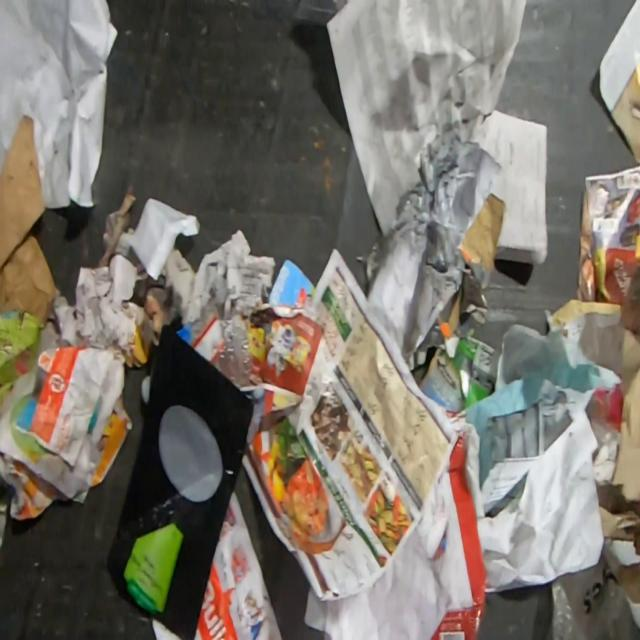cardboard: (0, 115, 62, 322), (428, 430, 489, 640), (451, 336, 500, 410), (436, 284, 464, 338), (616, 561, 640, 605), (151, 620, 180, 640)
soft_plastic: (104, 322, 255, 640), (544, 549, 640, 639), (217, 308, 253, 389)
